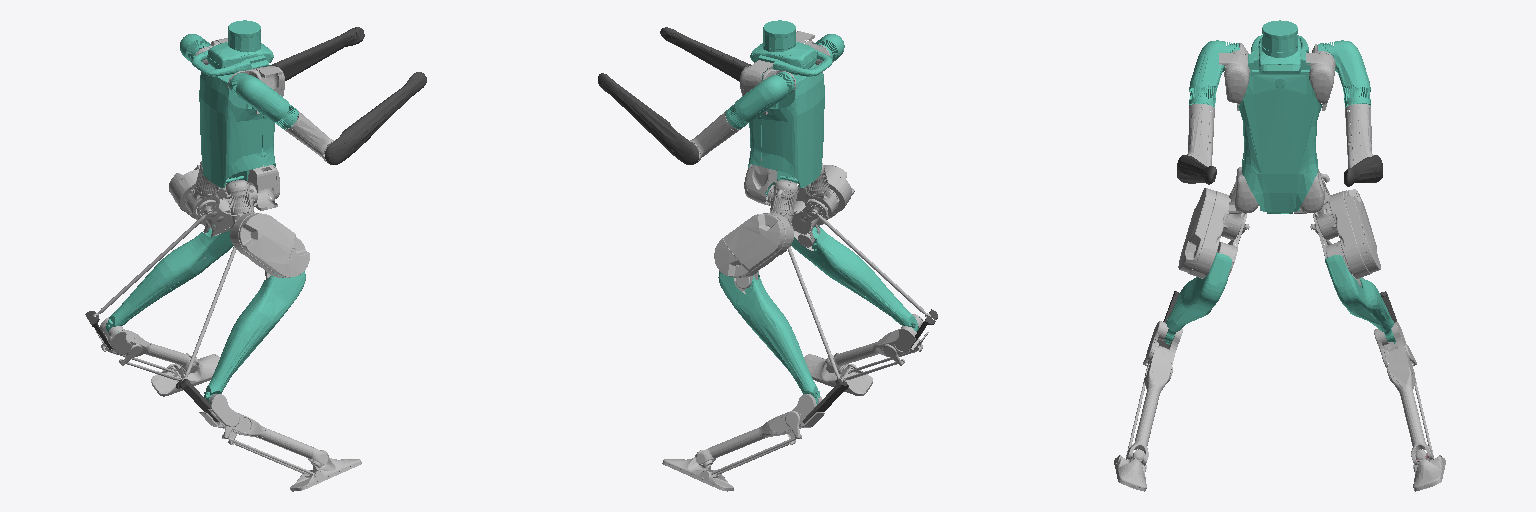
--- Render facts (derived) ---
3 views of the same robot in one strip: view 1: azimuth 30°, elevation 25°; view 2: azimuth 150°, elevation 25°; view 3: azimuth 270°, elevation 25° (orthographic).
Model digit-v3-floatingbase-springfixed with 49 links and 48 joints (33 revolute, 8 continuous, 3 prismatic, 4 fixed), rooted at ground, posed every joint at zero.
Visible links, largest first — view 1: Rz, right_shin, left_shin, right_hip_pitch, right_elbow, right_tarsus, right_shoulder_pitch, left_tarsus, left_elbow, left_hip_pitch, left_toe_roll, right_toe_roll (+5 smaller); view 2: Rz, left_shin, right_shin, left_hip_pitch, left_elbow, left_tarsus, left_shoulder_pitch, right_tarsus, right_elbow, right_hip_pitch, right_toe_roll, left_toe_roll (+6 smaller); view 3: Rz, left_hip_pitch, right_hip_pitch, left_tarsus, right_tarsus, right_shin, left_shin, left_shoulder_pitch, right_shoulder_pitch, left_shoulder_yaw, right_shoulder_yaw, right_toe_roll (+4 smaller).
Link boxes in pixels (bbox=[...]): Rz: bbox=[191, 20, 284, 210]; right_shin: bbox=[204, 271, 305, 403]; left_shin: bbox=[106, 225, 233, 332]; right_hip_pitch: bbox=[232, 213, 309, 277]; right_elbow: bbox=[325, 72, 426, 164]; right_tarsus: bbox=[199, 394, 327, 463]; right_shoulder_pitch: bbox=[229, 73, 298, 128]; left_tarsus: bbox=[96, 317, 197, 372]; left_elbow: bbox=[271, 27, 364, 80]; left_hip_pitch: bbox=[169, 165, 231, 230]; left_toe_roll: bbox=[151, 354, 219, 396]; right_toe_roll: bbox=[290, 450, 361, 491]; Rz: bbox=[740, 20, 832, 205]; left_shin: bbox=[718, 271, 819, 404]; right_shin: bbox=[791, 226, 918, 331]; left_hip_pitch: bbox=[714, 213, 791, 277]; left_elbow: bbox=[598, 73, 698, 164]; left_tarsus: bbox=[696, 394, 824, 463]; left_shoulder_pitch: bbox=[725, 72, 794, 128]; right_tarsus: bbox=[826, 314, 928, 372]; right_elbow: bbox=[660, 27, 751, 81]; right_hip_pitch: bbox=[793, 165, 854, 230]; right_toe_roll: bbox=[804, 354, 872, 395]; left_toe_roll: bbox=[662, 450, 733, 491]; Rz: bbox=[1219, 20, 1335, 213]; left_hip_pitch: bbox=[1313, 189, 1380, 278]; right_hip_pitch: bbox=[1178, 188, 1246, 278]; left_tarsus: bbox=[1374, 322, 1433, 464]; right_tarsus: bbox=[1126, 321, 1182, 464]; right_shin: bbox=[1164, 253, 1231, 344]; left_shin: bbox=[1325, 255, 1395, 343]; left_shoulder_pitch: bbox=[1318, 40, 1370, 107]; right_shoulder_pitch: bbox=[1189, 40, 1239, 107]; left_shoulder_yaw: bbox=[1345, 104, 1373, 167]; right_shoulder_yaw: bbox=[1187, 104, 1214, 166]; right_toe_roll: bbox=[1114, 449, 1146, 491].
Bounding box of the posed robot: 0.9353 × 0.9376 × 1.4 m (x, y, z).
41 mesh visuals loaded from 20 distinct referenced files (20 binary STL).

The robot description file, URDF, robot "digit-v3-floatingbase-springfixed":
<?xml version="1.0" encoding="utf-8"?>
<robot name="digit-v3-floatingbase-springfixed">
  <!-- floating base -->
  <link name = "ground">
    <inertial>
      <origin xyz = "0 0 0" rpy = "0 0 0" />
      <mass value = "0"/>
      <inertia ixx = "0" ixy = "0" ixz = "0" iyy = "0" iyz = "0" izz = "0"/>
    </inertial>
  </link>
  <link name = "Px">
    <inertial>
      <origin xyz = "0 0 0" rpy = "0 0 0" />
      <mass value = "0"/>
      <inertia ixx = "0" ixy = "0" ixz = "0" iyy = "0" iyz = "0" izz = "0"/>
    </inertial>
  </link>
  <link name = "Py">
    <inertial>
      <origin xyz = "0 0 0" rpy = "0 0 0" />
      <mass value = "0"/>
      <inertia ixx = "0" ixy = "0" ixz = "0" iyy = "0" iyz = "0" izz = "0"/>
    </inertial>
  </link>
  <link name = "Pz">
    <inertial>
      <origin xyz = "0 0 0" rpy = "0 0 0" />
      <mass value = "0"/>
      <inertia ixx = "0" ixy = "0" ixz = "0" iyy = "0" iyz = "0" izz = "0"/>
    </inertial>
  </link>
  <link name = "Rx">
    <inertial>
      <origin xyz = "0 0 0" rpy = "0 0 0" />
      <mass value = "0"/>
      <inertia ixx = "0" ixy = "0" ixz = "0" iyy = "0" iyz = "0" izz = "0"/>
    </inertial>
  </link>
  <link name = "Ry">
    <inertial>
      <origin xyz = "0 0 0" rpy = "0 0 0" />
      <mass value = "0"/>
      <inertia ixx = "0" ixy = "0" ixz = "0" iyy = "0" iyz = "0" izz = "0"/>
    </inertial>
  </link>
  <link name = "Rz">
    <inertial>
      <origin rpy="0 0 0" xyz="0.001636612541 0.0002001180789 0.2593064529"/>
      <mass value="15.028392"/>
      <inertia ixx="0.3759052548" ixy="-8.776732849e-05" ixz="0.008498611229" iyy="0.3441935" iyz="6.621611757e-05" izz="0.09873232746"/>
    </inertial>
    <visual>
      <origin rpy="0 0 0" xyz="0 0 0"/>
      <geometry>
        <mesh filename="meshes/torso-v3/torso.stl"/>
      </geometry>
      <material name="scarlet">
        <color rgba="0.427 0.784 0.714 1"/>
      </material>
    </visual>
    <visual>
      <origin rpy="0 -1.5707963267948966192313216916398 0" xyz="-0.001 0.091 0"/>
      <geometry>
        <mesh filename="meshes/leg-v3/hip-roll-housing.stl"/>
      </geometry>
      <material name="light_grey">
        <color rgba="0.75 0.75 0.75 1"/>
      </material>
    </visual>
    <visual>
      <origin rpy="-0 -1.5707963267948966192313216916398 0" xyz="-0.001 0.12 0.4"/>
      <geometry>
        <mesh filename="meshes/arm-v3/link-0.stl"/>
      </geometry>
      <material name="light_grey">
        <color rgba="0.75 0.75 0.75 1"/>
      </material>
    </visual>
    <visual>
      <origin rpy="0 -1.5707963267948966192313216916398 0" xyz="-0.001 -0.091 0"/>
      <geometry>
        <mesh filename="meshes/leg-v3/hip-roll-housing.stl"/>
      </geometry>
      <material name="light_grey">
        <color rgba="0.75 0.75 0.75 1"/>
      </material>
    </visual>
    <visual>
      <origin rpy="0 -1.5707963267948966192313216916398 0" xyz="-0.001 -0.12 0.4"/>
      <geometry>
        <mesh filename="meshes/arm-v3/link-0.stl"/>
      </geometry>
      <material name="light_grey">
        <color rgba="0.75 0.75 0.75 1"/>
      </material>
    </visual>
    <collision>
      <origin rpy="0 0 0" xyz="0 0 0"/>
      <geometry>
        <mesh filename="meshes/torso-v3/torso.stl"/>
      </geometry>
    </collision>
    <collision>
      <origin rpy="0 -1.5707963267948966192313216916398 0" xyz="-0.001 0.091 0"/>
      <geometry>
        <mesh filename="meshes/leg-v3/hip-roll-housing.stl"/>
      </geometry>
    </collision>
    <collision>
      <origin rpy="-0.1745   -1.5707963267948966192313216916398         0" xyz="-0.001 0.12 0.4"/>
      <geometry>
        <mesh filename="meshes/arm-v3/link-0.stl"/>
      </geometry>
    </collision>
    <collision>
      <origin rpy="0 -1.5707963267948966192313216916398 0" xyz="-0.001 -0.091 0"/>
      <geometry>
        <mesh filename="meshes/leg-v3/hip-roll-housing.stl"/>
      </geometry>
    </collision>
    <collision>
      <origin rpy="0.1745   -1.5707963267948966192313216916398         0" xyz="-0.001 -0.12 0.4"/>
      <geometry>
        <mesh filename="meshes/arm-v3/link-0.stl"/>
      </geometry>
    </collision>
  </link>

  <!-- left leg -->
  <link name="left_hip_roll">
    <inertial>
      <origin rpy="0 0 0" xyz="-0.001967 0.000244 0.031435"/>
      <mass value="0.915088"/>
      <inertia ixx="0.001017" ixy="-3e-06" ixz="1.3e-05" iyy="0.001148" iyz="-4e-06" izz="0.000766"/>
    </inertial>
    <visual>
      <origin rpy="0 0 0" xyz="0 0 0"/>
      <geometry>
        <mesh filename="meshes/leg-v3/hip-yaw-housing.stl"/>
      </geometry>
      <material name="light_grey">
        <color rgba="0.75 0.75 0.75 1"/>
      </material>
    </visual>
    <collision>
      <origin rpy="0 0 0" xyz="0 0 0"/>
      <geometry>
        <mesh filename="meshes/leg-v3/hip-yaw-housing.stl"/>
      </geometry>
    </collision>
  </link>
  <link name="left_hip_yaw">
    <inertial>
      <origin rpy="0 0 0" xyz="1e-05 -0.001945 0.042033"/>
      <mass value="0.818753"/>
      <inertia ixx="0.001627" ixy="-1e-06" ixz="2e-06" iyy="0.001929" iyz="5.3e-05" izz="0.00077"/>
    </inertial>
    <visual>
      <origin rpy="0 0 0" xyz="0 0 0"/>
      <geometry>
        <mesh filename="meshes/leg-v3/hip-pitch-housing.stl"/>
      </geometry>
      <material name="light_grey">
        <color rgba="0.75 0.75 0.75 1"/>
      </material>
    </visual>
    <collision>
      <origin rpy="0 0 0" xyz="0 0 0"/>
      <geometry>
        <mesh filename="meshes/leg-v3/hip-pitch-housing.stl"/>
      </geometry>
    </collision>
  </link>
  <link name="left_hip_pitch">
    <inertial>
      <origin rpy="0 0 0" xyz="0.060537 0.000521 -0.038857"/>
      <mass value="6.244279"/>
      <inertia ixx="0.011533" ixy="-0.000171" ixz="0.000148" iyy="0.033345" iyz="0.000178" izz="0.033958"/>
    </inertial>
    <visual>
      <origin rpy="0 0 0" xyz="0 0 0"/>
      <geometry>
        <mesh filename="meshes/leg-v3/hip-pitch.stl"/>
      </geometry>
      <material name="scarlet">
        <color rgba="0.75 0.75 0.75 1"/>
      </material>
    </visual>
    <collision>
      <origin rpy="0 0 0" xyz="0 0 0"/>
      <geometry>
        <mesh filename="meshes/leg-v3/hip-pitch.stl"/>
      </geometry>
    </collision>
  </link>

  <!-- left knee close loop -->
  <link name="left_achilles_rod">
    <inertial>
      <origin rpy="0 0 0" xyz="0 0 0"/>
      <mass value="0."/>
      <inertia ixx="0" ixy="0" ixz="0" iyy="0" iyz="0" izz="0"/>
    </inertial>
    <visual>
      <origin rpy="0 0 0" xyz="0 0 0"/>
      <geometry>
        <mesh filename="meshes/leg-v3/achilles-rod.stl"/>
      </geometry>
      <material name="light_grey">
        <color rgba="0.75 0.75 0.75 1"/>
      </material>
    </visual>
    <collision>
      <origin rpy="0 0 0" xyz="0 0 0"/>
      <geometry>
        <mesh filename="meshes/leg-v3/achilles-rod.stl"/>
      </geometry>
    </collision>
  </link>
  <link name="left_ach2">
    <inertial>
      <origin rpy="0 0 0" xyz="0.2506 0 0"/>
      <mass value="0.178148"/>
      <inertia ixx="3e-06" ixy="0" ixz="0" iyy="0.004501" iyz="0" izz="0.004501"/>
    </inertial>
    <visual>
      <origin rpy="0 0 0" xyz="0 0 0"/>
      <geometry>
        <sphere radius = "0.0" />
      </geometry>
    </visual>
    <collision>
      <origin rpy="0 0 0" xyz="0 0 0"/>
      <geometry>
        <sphere radius = "0.0" />
      </geometry>
    </collision>
  </link>

  <link name="left_knee">
    <inertial>
      <origin rpy="0 0 0" xyz="0.045641 0.042154 0.001657"/>
      <mass value="1.227077"/>
      <inertia ixx="0.002643" ixy="-0.001832" ixz="6.6e-05" iyy="0.005098" iyz="4.5e-05" izz="0.007019"/>
    </inertial>
    <visual>
      <origin rpy="0 0 0" xyz="0 0 0"/>
      <geometry>
        <mesh filename="meshes/leg-v3/knee.stl"/>
      </geometry>
      <material name="light_grey">
        <color rgba="0.75 0.75 0.75 1"/>
      </material>
    </visual>
    <collision>
      <origin rpy="0 0 0" xyz="0 0 0"/>
      <geometry>
        <mesh filename="meshes/leg-v3/knee.stl"/>
      </geometry>
    </collision>
  </link>
  <link name="left_shin">
    <inertial>
      <origin rpy="0 0 0" xyz="0.174265 0.010265 0.00107"/>
      <mass value="0.895793"/>
      <inertia ixx="0.001128" ixy="0.001098" ixz="0.000196" iyy="0.022492" iyz="-3e-06" izz="0.022793"/>
    </inertial>
    <visual>
      <origin rpy="0 0 0" xyz="0 0 0"/>
      <geometry>
        <mesh filename="meshes/leg-v3/shin.stl"/>
      </geometry>
      <material name="scarlet">
        <color rgba="0.427 0.784 0.714 1"/>
      </material>
    </visual>
    <collision>
      <origin rpy="0 0 0" xyz="0 0 0"/>
      <geometry>
        <mesh filename="meshes/leg-v3/shin.stl"/>
      </geometry>
    </collision>
  </link>
  <link name="left_tarsus">
    <inertial>
      <origin rpy="0 0 0" xyz="0.100777 -0.029183 0.000678"/>
      <mass value="1.322865"/>
      <inertia ixx="0.000932" ixy="0.00061" ixz="0.000102" iyy="0.016409" iyz="9e-06" izz="0.016501"/>
    </inertial>
    <visual>
      <origin rpy="0 0 0" xyz="0 0 0"/>
      <geometry>
        <mesh filename="meshes/leg-v3/tarsus.stl"/>
      </geometry>
      <material name="light_grey">
        <color rgba="0.75 0.75 0.75 1"/>
      </material>
    </visual>
    <collision>
      <origin rpy="0 0 0" xyz="0 0 0"/>
      <geometry>
        <mesh filename="meshes/leg-v3/tarsus.stl"/>
      </geometry>
    </collision>
  </link>
  <link name="left_heel_spring">
    <inertial>
      <origin rpy="0 0 0" xyz="0.049086 0.004739 -4.5e-05"/>
      <mass value="0.230018"/>
      <inertia ixx="5.5e-05" ixy="1.5e-05" ixz="1e-06" iyy="0.00074" iyz="0" izz="0.000701"/>
    </inertial>
    <visual>
      <origin rpy="0 0 0" xyz="0 0 0"/>
      <geometry>
        <mesh filename="meshes/leg-v3/heel-spring.stl"/>
      </geometry>
      <material name="grey">
        <color rgba="0.35 0.35 0.35 1"/>
      </material>
    </visual>
    <collision>
      <origin rpy="0 0 0" xyz="0 0 0"/>
      <geometry>
        <mesh filename="meshes/leg-v3/heel-spring.stl"/>
      </geometry>
    </collision>
  </link>

  <!-- left toe close loop-->
  <link name="left_toe_A">
    <inertial>
      <origin rpy="0 0 0" xyz="0.005161 1e-06 -0.002248"/>
      <mass value="0.139557"/>
      <inertia ixx="2.9e-05" ixy="0" ixz="-4e-06" iyy="5.8e-05" iyz="0" izz="7.4e-05"/>
    </inertial>
    <visual>
      <origin rpy="0 0 0" xyz="0 0 0"/>
      <geometry>
        <mesh filename="meshes/leg-v3/toe-output.stl"/>
      </geometry>
      <material name="light_grey">
        <color rgba="0.75 0.75 0.75 1"/>
      </material>
    </visual>
    <collision>
      <origin rpy="0 0 0" xyz="0 0 0"/>
      <geometry>
        <mesh filename="meshes/leg-v3/toe-output.stl"/>
      </geometry>
    </collision>
  </link>
  <link name="left_toe_A_rod">
    <inertial>
      <origin rpy="0 0 0" xyz="0 0 0"/>
      <mass value="0."/>
      <inertia ixx="0" ixy="0" ixz="0" iyy="0" iyz="0" izz="0"/>
    </inertial>
    <visual>
      <origin rpy="0 0 0" xyz="0 0 0"/>
      <geometry>
        <mesh filename="meshes/leg-v3/toe-a-rod.stl"/>
      </geometry>
      <material name="light_grey">
        <color rgba="0.75 0.75 0.75 1"/>
      </material>
    </visual>
    <collision>
      <origin rpy="0 0 0" xyz="0 0 0"/>
      <geometry>
        <mesh filename="meshes/leg-v3/toe-a-rod.stl"/>
      </geometry>
    </collision>
  </link>
  <link name="left_A2">
    <inertial>
      <origin rpy="0 0 0" xyz="0.171071 0 0"/>
      <mass value="0.090983"/>
      <inertia ixx="1e-06" ixy="0" ixz="0" iyy="0.001182" iyz="0" izz="0.001182"/>
    </inertial>
    <visual>
      <origin rpy="0 0 0" xyz="0 0 0"/>
      <geometry>
        <sphere radius = "0.0" />
      </geometry>
    </visual>
    <collision>
      <origin rpy="0 0 0" xyz="0 0 0"/>
      <geometry>
        <sphere radius = "0.0" />
      </geometry>
    </collision>
  </link>
  <link name="left_toe_B">
    <inertial>
      <origin rpy="0 0 0" xyz="0.005161 1e-06 -0.002248"/>
      <mass value="0.139557"/>
      <inertia ixx="2.9e-05" ixy="0" ixz="-4e-06" iyy="5.8e-05" iyz="0" izz="7.4e-05"/>
    </inertial>
    <visual>
      <origin rpy="0 0 0" xyz="0 0 0"/>
      <geometry>
        <mesh filename="meshes/leg-v3/toe-output.stl"/>
      </geometry>
      <material name="light_grey">
        <color rgba="0.75 0.75 0.75 1"/>
      </material>
    </visual>
    <collision>
      <origin rpy="0 0 0" xyz="0 0 0"/>
      <geometry>
        <mesh filename="meshes/leg-v3/toe-output.stl"/>
      </geometry>
    </collision>
  </link>
  <link name="left_toe_B_rod">
    <inertial>
      <origin rpy="0 0 0" xyz="0 0 0"/>
      <mass value="0."/>
      <inertia ixx="0" ixy="0" ixz="0" iyy="0" iyz="0" izz="0"/>
    </inertial>
    <visual>
      <origin rpy="0 0 0" xyz="0 0 0"/>
      <geometry>
        <mesh filename="meshes/leg-v3/toe-b-rod.stl"/>
      </geometry>
      <material name="light_grey">
        <color rgba="0.75 0.75 0.75 1"/>
      </material>
    </visual>
    <collision>
      <origin rpy="0 0 0" xyz="0 0 0"/>
      <geometry>
        <mesh filename="meshes/leg-v3/toe-b-rod.stl"/>
      </geometry>
    </collision>
  </link>
  <link name="left_B2">
    <inertial>
      <origin rpy="0 0 0" xyz="0.142991 0 0"/>
      <mass value="0.079507"/>
      <inertia ixx="1e-06" ixy="0" ixz="0" iyy="0.000768" iyz="0" izz="0.000768"/>
    </inertial>
    <visual>
      <origin rpy="0 0 0" xyz="0 0 0"/>
      <geometry>
        <sphere radius = "0.0" />
      </geometry>
    </visual>
    <collision>
      <origin rpy="0 0 0" xyz="0 0 0"/>
      <geometry>
        <sphere radius = "0.0" />
      </geometry>
    </collision>
  </link>

  <link name="left_toe_pitch">
    <inertial>
      <origin rpy="0 0 0" xyz="-0.000141 2e-06 3e-06"/>
      <mass value="0.043881"/>
      <inertia ixx="5e-06" ixy="0" ixz="0" iyy="8e-06" iyz="0" izz="4e-06"/>
    </inertial>
    <visual>
      <origin rpy="0 0 0" xyz="0 0 0"/>
      <geometry>
        <mesh filename="meshes/leg-v3/toe-pitch.stl"/>
      </geometry>
    </visual>
    <collision>
      <origin rpy="0 0 0" xyz="0 0 0"/>
      <geometry>
        <mesh filename="meshes/leg-v3/toe-pitch.stl"/>
      </geometry>
      <material name="light_grey">
        <color rgba="0.75 0.75 0.75 1"/>
      </material>
    </collision>
  </link>
  <link name="left_toe_roll">
    <inertial>
      <origin rpy="0 0 0" xyz="9e-06 -0.028084 -0.023204"/>
      <mass value="0.531283"/>
      <inertia ixx="0.00187" ixy="0" ixz="0" iyy="0.001616" iyz="0.000566" izz="0.000843"/>
    </inertial>
    <visual>
      <origin rpy="0 0 0" xyz="0 0 0"/>
      <geometry>
        <mesh filename="meshes/leg-v3/toe-roll.stl"/>
      </geometry>
      <material name="light_grey">
        <color rgba="0.75 0.75 0.75 1"/>
      </material>
    </visual>
    <collision>
      <origin rpy="0 0 0" xyz="0 0 0"/>
      <geometry>
        <mesh filename="meshes/leg-v3/toe-roll.stl"/>
      </geometry>
    </collision>
  </link>

  <!-- left arm -->
  <link name="left_shoulder_roll">
    <inertial>
      <origin rpy="0 0 0" xyz="-0.000819 -0.003158 0.023405"/>
      <mass value="0.535396"/>
      <inertia ixx="0.000704" ixy="1.4e-05" ixz="1.2e-05" iyy="0.00075" iyz="3.5e-05" izz="0.000298"/>
    </inertial>
    <visual>
      <origin rpy="0         0   -0.2793" xyz="0 0 0"/>
      <geometry>
        <mesh filename="meshes/arm-v3/link-1.stl"/>
      </geometry>
      <material name="light_grey">
        <color rgba="0.75 0.75 0.75 1"/>
      </material>
    </visual>
    <collision>
      <origin rpy="0         0   -0.2793" xyz="0 0 0"/>
      <geometry>
        <mesh filename="meshes/arm-v3/link-1.stl"/>
      </geometry>
    </collision>
  </link>
  <link name="left_shoulder_pitch">
    <inertial>
      <origin rpy="0 0 0" xyz="-4.2e-05 -0.061882 -0.073788"/>
      <mass value="1.440357"/>
      <inertia ixx="0.006761" ixy="-6e-06" ixz="-3e-06" iyy="0.002087" iyz="-0.002046" izz="0.005778"/>
    </inertial>
    <visual>
      <origin rpy="0 0 0" xyz="0 0 0"/>
      <geometry>
        <mesh filename="meshes/arm-v3/link-2.stl"/>
      </geometry>
      <material name="scarlet">
        <color rgba="0.427 0.784 0.714 1"/>
      </material>
    </visual>
    <collision>
      <origin rpy="0 0 0" xyz="0 0 0"/>
      <geometry>
        <mesh filename="meshes/arm-v3/link-2.stl"/>
      </geometry>
    </collision>
  </link>
  <link name="left_shoulder_yaw">
    <inertial>
      <origin rpy="0 0 0" xyz="-3e-05 0.001937 0.11407"/>
      <mass value="1.065387"/>
      <inertia ixx="0.006967" ixy="-1e-06" ixz="-1e-06" iyy="0.007003" iyz="-1.5e-05" izz="0.000673"/>
    </inertial>
    <visual>
      <origin rpy="0 0 0" xyz="0 0 0"/>
      <geometry>
        <mesh filename="meshes/arm-v3/link-3.stl"/>
      </geometry>
      <material name="light_grey">
        <color rgba="0.75 0.75 0.75 1"/>
      </material>
    </visual>
    <collision>
      <origin rpy="0 0 0" xyz="0 0 0"/>
      <geometry>
        <mesh filename="meshes/arm-v3/link-3.stl"/>
      </geometry>
    </collision>
  </link>
  <link name="left_elbow">
    <inertial>
      <origin rpy="0 0 0" xyz="0.107996 0.000521 -0.017765"/>
      <mass value="0.550582"/>
      <inertia ixx="0.000476" ixy="-2.9e-05" ixz="0.001403" iyy="0.009564" iyz="9e-06" izz="0.009437"/>
    </inertial>
    <visual>
      <origin rpy="0 0 0" xyz="0 0 0"/>
      <geometry>
        <mesh filename="meshes/arm-v3/link-4.stl"/>
      </geometry>
      <material name="grey">
        <color rgba="0.35 0.35 0.35 1"/>
      </material>
    </visual>
    <collision>
      <origin rpy="0 0 0" xyz="0 0 0"/>
      <geometry>
        <mesh filename="meshes/arm-v3/link-4.stl"/>
      </geometry>
    </collision>
  </link>
  
  <!-- right leg -->
  <link name="right_hip_roll">
    <inertial>
      <origin rpy="0 0 0" xyz="-0.001967 -0.000244 0.031435"/>
      <mass value="0.915088"/>
      <inertia ixx="0.001017" ixy="3e-06" ixz="1.3e-05" iyy="0.001148" iyz="4e-06" izz="0.000766"/>
    </inertial>
    <visual>
      <origin rpy="0 0 0" xyz="0 0 0"/>
      <geometry>
        <mesh filename="meshes/leg-v3/hip-yaw-housing.stl" scale="1 1 1"/>
      </geometry>
      <material name="light_grey">
        <color rgba="0.75 0.75 0.75 1"/>
      </material>
    </visual>
    <collision>
      <origin rpy="0 0 0" xyz="0 0 0"/>
      <geometry>
        <mesh filename="meshes/leg-v3/hip-yaw-housing.stl" scale="1 1 1"/>
      </geometry>
    </collision>
  </link>
  <link name="right_hip_yaw">
    <inertial>
      <origin rpy="0 0 0" xyz="1e-05 0.001945 0.042033"/>
      <mass value="0.818753"/>
      <inertia ixx="0.001627" ixy="1e-06" ixz="2e-06" iyy="0.001929" iyz="-5.3e-05" izz="0.00077"/>
    </inertial>
    <visual>
      <origin rpy="0 0 3.1415926535897932384626433832795" xyz="0 0 0"/>
      <geometry>
        <mesh filename="meshes/leg-v3/hip-pitch-housing.stl" scale="1 1 1"/>
      </geometry>
      <material name="light_grey">
        <color rgba="0.75 0.75 0.75 1"/>
      </material>
    </visual>
    <collision>
      <origin rpy="0 0 0" xyz="0 0 0"/>
      <geometry>
        <mesh filename="meshes/leg-v3/hip-pitch-housing.stl" scale="1 1 1"/>
      </geometry>
    </collision>
  </link>
  <link name="right_hip_pitch">
    <inertial>
      <origin rpy="0 0 0" xyz="0.060537 -0.000521 -0.038857"/>
      <mass value="6.244279"/>
      <inertia ixx="0.011533" ixy="0.000171" ixz="0.000148" iyy="0.033345" iyz="-0.000178" izz="0.033958"/>
    </inertial>
    <visual>
      <origin rpy="0 0 0" xyz="0 0 0"/>
      <geometry>
        <mesh filename="meshes/leg-v3/hip-pitch.stl" scale="1 1 1"/>
      </geometry>
      <material name="scarlet">
        <color rgba="0.75 0.75 0.75 1"/>
      </material>
    </visual>
    <collision>
      <origin rpy="0 0 0" xyz="0 0 0"/>
      <geometry>
        <mesh filename="meshes/leg-v3/hip-pitch.stl" scale="1 1 1"/>
      </geometry>
    </collision>
  </link>

  <!-- right knee close loop -->
  <link name="right_achilles_rod">
    <inertial>
      <origin rpy="0 0 0" xyz="0 0 0"/>
      <mass value="0."/>
      <inertia ixx="0" ixy="0" ixz="0" iyy="0" iyz="0" izz="0"/>
    </inertial>
    <visual>
      <origin rpy="0 0 0" xyz="0 0 0"/>
      <geometry>
        <mesh filename="meshes/leg-v3/achilles-rod.stl" scale="1 1 1"/>
      </geometry>
      <material name="light_grey">
        <color rgba="0.75 0.75 0.75 1"/>
      </material>
    </visual>
    <collision>
      <origin rpy="0 0 0" xyz="0 0 0"/>
      <geometry>
        <mesh filename="meshes/leg-v3/achilles-rod.stl" scale="1 1 1"/>
      </geometry>
    </collision>
  </link>
  <link name="right_ach2">
    <inertial>
      <origin rpy="0 0 0" xyz="0.2506 0 0"/>
      <mass value="0.178148"/>
      <inertia ixx="3e-06" ixy="0" ixz="0" iyy="0.004501" iyz="0" izz="0.004501"/>
    </inertial>
    <visual>
      <origin rpy="0 0 0" xyz="0 0 0"/>
      <geometry>
        <sphere radius = "0.0" />
      </geometry>
    </visual>
    <collision>
      <origin rpy="0 0 0" xyz="0 0 0"/>
      <geometry>
        <sphere radius = "0.0" />
      </geometry>
    </collision>
  </link>

  <link name="right_knee">
    <inertial>
      <origin rpy="0 0 0" xyz="0.045641 -0.042154 0.001657"/>
      <mass value="1.227077"/>
      <inertia ixx="0.002643" ixy="0.001832" ixz="6.6e-05" iyy="0.005098" iyz="-4.5e-05" izz="0.007019"/>
    </inertial>
    <visual>
      <origin rpy="3.1415926535897932384626433832795 0 0" xyz="0 0 0"/>
      <geometry>
        <mesh filename="meshes/leg-v3/knee.stl" scale="1 1 1"/>
      </geometry>
      <material name="light_grey">
        <color rgba="0.75 0.75 0.75 1"/>
      </material>
    </visual>
    <collision>
      <origin rpy="0 0 0" xyz="0 0 0"/>
      <geometry>
        <mesh filename="meshes/leg-v3/knee.stl" scale="1 1 1"/>
      </geometry>
    </collision>
  </link>
  <link name="right_shin">
    <inertial>
      <origin rpy="0 0 0" xyz="0.174265 -0.010265 0.00107"/>
      <mass value="0.895793"/>
      <inertia ixx="0.001128" ixy="-0.001098" ixz="0.000196" iyy="0.022492" iyz="3e-06" izz="0.022793"/>
    </inertial>
    <visual>
      <origin rpy="3.1415926535897932384626433832795 0 0" xyz="0 0 0"/>
      <geometry>
        <mesh filename="meshes/leg-v3/shin.stl" scale="1 1 1"/>
      </geometry>
      <material name="scarlet">
        <color rgba="0.427 0.784 0.714 1"/>
      </material>
    </visual>
    <collision>
      <origin rpy="0 0 0" xyz="0 0 0"/>
      <geometry>
        <mesh filename="meshes/leg-v3/shin.stl" scale="1 1 1"/>
      </geometry>
    </collision>
  </link>
  <link name="right_tarsus">
    <inertial>
      <origin rpy="0 0 0" xyz="0.100777 0.029183 0.000678"/>
      <mass value="1.322865"/>
      <inertia ixx="0.000932" ixy="-0.00061" ixz="0.000102" iyy="0.016409" iyz="-9e-06" izz="0.016501"/>
    </inertial>
    <visual>
      <origin rpy="3.1415926535897932384626433832795 0 0" xyz="0 0 0"/>
      <geometry>
        <mesh filename="meshes/leg-v3/tarsus.stl" scale="1 1 1"/>
      </geometry>
      <material name="light_grey">
        <color rgba="0.75 0.75 0.75 1"/>
      </material>
    </visual>
    <collision>
      <origin rpy="0 0 0" xyz="0 0 0"/>
      <geometry>
        <mesh filename="meshes/leg-v3/tarsus.stl" scale="1 1 1"/>
      </geometry>
    </collision>
  </link>
  <link name="right_heel_spring">
    <inertial>
      <origin rpy="0 0 0" xyz="0.049086 -0.004739 -4.5e-05"/>
      <mass value="0.230018"/>
      <inertia ixx="5.5e-05" ixy="-1.5e-05" ixz="1e-06" iyy="0.00074" iyz="0" izz="0.000701"/>
    </inertial>
    <visual>
      <origin rpy="0 0 0" xyz="0 0 0"/>
      <geometry>
        <mesh filename="meshes/leg-v3/heel-spring.stl" scale="1 1 1"/>
      </geometry>
      <material name="grey">
        <color rgba="0.35 0.35 0.35 1"/>
      </material>
    </visual>
    <collision>
      <origin rpy="0 0 0" xyz="0 0 0"/>
      <geometry>
        <mesh filename="meshes/leg-v3/heel-spring.stl" scale="1 1 1"/>
      </geometry>
    </collision>
  </link>

  <!-- right toe close loop -->
  <link name="right_toe_A">
    <inertial>
      <origin rpy="0 0 0" xyz="0.005161 -1e-06 -0.002248"/>
      <mass value="0.139557"/>
      <inertia ixx="2.9e-05" ixy="0" ixz="-4e-06" iyy="5.8e-05" iyz="0" izz="7.4e-05"/>
    </inertial>
    <visual>
      <origin rpy="0 0 0" xyz="0 0 0"/>
      <geometry>
        <mesh filename="meshes/leg-v3/toe-output.stl" scale="1 1 1"/>
      </geometry>
      <material name="light_grey">
        <color rgba="0.75 0.75 0.75 1"/>
      </material>
    </visual>
    <collision>
      <origin rpy="0 0 0" xyz="0 0 0"/>
      <geometry>
        <mesh filename="meshes/leg-v3/toe-output.stl" scale="1 1 1"/>
      </geometry>
    </collision>
  </link>
  <link name="right_toe_A_rod">
    <inertial>
      <origin rpy="0 0 0" xyz="0 0 0"/>
      <mass value="0."/>
      <inertia ixx="0" ixy="0" ixz="0" iyy="0" iyz="0" izz="0"/>
    </inertial>
    <visual>
      <origin rpy="0 0 0" xyz="0 0 0"/>
      <geometry>
        <mesh filename="meshes/leg-v3/toe-a-rod.stl" scale="1 1 1"/>
      </geometry>
      <material name="light_grey">
        <color rgba="0.75 0.75 0.75 1"/>
      </material>
    </visual>
    <collision>
      <origin rpy="0 0 0" xyz="0 0 0"/>
      <geometry>
        <mesh filename="meshes/leg-v3/toe-a-rod.stl" scale="1 1 1"/>
      </geometry>
    </collision>
  </link>
  <link name="right_A2">
    <inertial>
      <origin rpy="0 0 0" xyz="0.171071 0 0"/>
      <mass value="0.090983"/>
      <inertia ixx="1e-06" ixy="0" ixz="0" iyy="0.001182" iyz="0" izz="0.001182"/>
    </inertial>
    <visual>
      <origin rpy="0 0 0" xyz="0 0 0"/>
      <geometry>
        <sphere radius = "0.0" />
      </geometry>
    </visual>
    <collision>
      <origin rpy="0 0 0" xyz="0 0 0"/>
      <geometry>
        <sphere radius = "0.0" />
      </geometry>
    </collision>
  </link>
  <link name="right_toe_B">
    <inertial>
      <origin rpy="0 0 0" xyz="0.005161 -1e-06 -0.002248"/>
      <mass value="0.139557"/>
      <inertia ixx="2.9e-05" ixy="0" ixz="-4e-06" iyy="5.8e-05" iyz="0" izz="7.4e-05"/>
    </inertial>
    <visual>
      <origin rpy="0 0 0" xyz="0 0 0"/>
      <geometry>
        <mesh filename="meshes/leg-v3/toe-output.stl" scale="1 1 1"/>
      </geometry>
      <material name="light_grey">
        <color rgba="0.75 0.75 0.75 1"/>
      </material>
    </visual>
    <collision>
      <origin rpy="0 0 0" xyz="0 0 0"/>
      <geometry>
        <mesh filename="meshes/leg-v3/toe-output.stl" scale="1 1 1"/>
      </geometry>
    </collision>
  </link>
  <link name="right_toe_B_rod">
    <inertial>
      <origin rpy="0 0 0" xyz="0 0 0"/>
      <mass value="0."/>
      <inertia ixx="0" ixy="0" ixz="0" iyy="0" iyz="0" izz="0"/>
    </inertial>
    <visual>
      <origin rpy="0 0 0" xyz="0 0 0"/>
      <geometry>
        <mesh filename="meshes/leg-v3/toe-b-rod.stl" scale="1 1 1"/>
      </geometry>
      <material name="light_grey">
        <color rgba="0.75 0.75 0.75 1"/>
      </material>
    </visual>
    <collision>
      <origin rpy="0 0 0" xyz="0 0 0"/>
      <geometry>
        <mesh filename="meshes/leg-v3/toe-b-rod.stl" scale="1 1 1"/>
      </geometry>
    </collision>
  </link>
  <link name="right_B2">
    <inertial>
      <origin rpy="0 0 0" xyz="0.142991 0 0"/>
      <mass value="0.079507"/>
      <inertia ixx="1e-06" ixy="0" ixz="0" iyy="0.000768" iyz="0" izz="0.000768"/>
    </inertial>
    <visual>
      <origin rpy="0 0 0" xyz="0 0 0"/>
      <geometry>
        <sphere radius = "0.0" />
      </geometry>
    </visual>
    <collision>
      <origin rpy="0 0 0" xyz="0 0 0"/>
      <geometry>
        <sphere radius = "0.0" />
      </geometry>
    </collision>
  </link>

  <link name="right_toe_pitch">
    <inertial>
      <origin rpy="0 0 0" xyz="-0.000141 -2e-06 3e-06"/>
      <mass value="0.043881"/>
      <inertia ixx="5e-06" ixy="0" ixz="0" iyy="8e-06" iyz="0" izz="4e-06"/>
    </inertial>
    <visual>
      <origin rpy="0 0 0" xyz="0 0 0"/>
      <geometry>
        <mesh filename="meshes/leg-v3/toe-pitch.stl" scale="1 1 1"/>
      </geometry>
      <material name="light_grey">
        <color rgba="0.75 0.75 0.75 1"/>
      </material>
    </visual>
    <collision>
      <origin rpy="0 0 0" xyz="0 0 0"/>
      <geometry>
        <mesh filename="meshes/leg-v3/toe-pitch.stl" scale="1 1 1"/>
      </geometry>
    </collision>
  </link>
  <link name="right_toe_roll">
    <inertial>
      <origin rpy="0 0 0" xyz="9e-06 0.028084 -0.023204"/>
      <mass value="0.531283"/>
      <inertia ixx="0.00187" ixy="0" ixz="0" iyy="0.001616" iyz="-0.000566" izz="0.000843"/>
    </inertial>
    <visual>
      <origin rpy="0 0 3.1415926535897932384626433832795" xyz="0 0 0"/>
      <geometry>
        <mesh filename="meshes/leg-v3/toe-roll.stl" scale="1 1 1"/>
      </geometry>
      <material name="light_grey">
        <color rgba="0.75 0.75 0.75 1"/>
      </material>
    </visual>
    <collision>
      <origin rpy="0 0 0" xyz="0 0 0"/>
      <geometry>
        <mesh filename="meshes/leg-v3/toe-roll.stl" scale="1 1 1"/>
      </geometry>
    </collision>
  </link>

  <!-- right arm -->
  <link name="right_shoulder_roll">
    <inertial>
      <origin rpy="0 0 0" xyz="-0.000819 0.003158 0.023405"/>
      <mass value="0.535396"/>
      <inertia ixx="0.000704" ixy="-1.4e-05" ixz="1.2e-05" iyy="0.00075" iyz="-3.5e-05" izz="0.000298"/>
    </inertial>
    <visual>
      <origin rpy="0         0    3.1415926535897932384626433832795" xyz="0 0 0"/>
      <geometry>
        <mesh filename="meshes/arm-v3/link-1.stl" scale="1 1 1"/>
      </geometry>
      <material name="light_grey">
        <color rgba="0.75 0.75 0.75 1"/>
      </material>
    </visual>
    <collision>
      <origin rpy="0         0    0.2793" xyz="0 0 0"/>
      <geometry>
        <mesh filename="meshes/arm-v3/link-1.stl" scale="1 1 1"/>
      </geometry>
    </collision>
  </link>
  <link name="right_shoulder_pitch">
    <inertial>
      <origin rpy="0 0 0" xyz="-4.2e-05 0.061882 -0.073788"/>
      <mass value="1.440357"/>
      <inertia ixx="0.006761" ixy="6e-06" ixz="-3e-06" iyy="0.002087" iyz="0.002046" izz="0.005778"/>
    </inertial>
    <visual>
      <origin rpy="0 0 3.1415926535897932384626433832795" xyz="0 0 0"/>
      <geometry>
        <mesh filename="meshes/arm-v3/link-2.stl" scale="1 1 1"/>
      </geometry>
      <material name="scarlet">
        <color rgba="0.427 0.784 0.714 1"/>
      </material>
    </visual>
    <collision>
      <origin rpy="0 0 0" xyz="0 0 0"/>
      <geometry>
        <mesh filename="meshes/arm-v3/link-2.stl" scale="1 1 1"/>
      </geometry>
    </collision>
  </link>
  <link name="right_shoulder_yaw">
    <inertial>
      <origin rpy="0 0 0" xyz="-3e-05 -0.001937 0.11407"/>
      <mass value="1.065387"/>
      <inertia ixx="0.006967" ixy="1e-06" ixz="-1e-06" iyy="0.007003" iyz="1.5e-05" izz="0.000673"/>
    </inertial>
    <visual>
      <origin rpy="0 0 3.1415926535897932384626433832795" xyz="0 0 0"/>
      <geometry>
        <mesh filename="meshes/arm-v3/link-3.stl" scale="1 1 1"/>
      </geometry>
      <material name="light_grey">
        <color rgba="0.75 0.75 0.75 1"/>
      </material>
    </visual>
    <collision>
      <origin rpy="0 0 0" xyz="0 0 0"/>
      <geometry>
        <mesh filename="meshes/arm-v3/link-3.stl" scale="1 1 1"/>
      </geometry>
    </collision>
  </link>
  <link name="right_elbow">
    <inertial>
      <origin rpy="0 0 0" xyz="0.107996 -0.000521 -0.017765"/>
      <mass value="0.550582"/>
      <inertia ixx="0.000476" ixy="2.9e-05" ixz="0.001403" iyy="0.009564" iyz="-9e-06" izz="0.009437"/>
    </inertial>
    <visual>
      <origin rpy="0 0 0" xyz="0 0 0"/>
      <geometry>
        <mesh filename="meshes/arm-v3/link-4.stl" scale="1 1 1"/>
      </geometry>
      <material name="grey">
        <color rgba="0.35 0.35 0.35 1"/>
      </material>
    </visual>
    <collision>
      <origin rpy="0 0 0" xyz="0 0 0"/>
      <geometry>
        <mesh filename="meshes/arm-v3/link-4.stl" scale="1 1 1"/>
      </geometry>
    </collision>
  </link>

  <!-- floating base -->
  <joint name = "Px" type = "prismatic">
    <parent link = "ground" />
    <child link = "Px" />
    <origin xyz = "0 0 0" />
    <axis xyz = "1 0 0" />
    <limit effort="1000" lower="-2" upper="2" velocity="1000"/>
  </joint>
  <joint name = "Py" type = "prismatic">
    <parent link = "Px" />
    <child link = "Py" />
    <origin xyz = "0 0 0" />
    <axis xyz = "0 1 0" />
    <limit effort="1000" lower="-2" upper="2" velocity="1000"/>
  </joint>
  <joint name = "Pz" type = "prismatic">
    <parent link = "Py" />
    <child link = "Pz" />
    <origin xyz = "0 0 0" />
    <axis xyz = "0 0 1" />
    <limit effort="1000" lower="-2" upper="2" velocity="1000"/>
  </joint>
  <joint name = "Rx" type = "revolute">
    <parent link = "Pz" />
    <child link = "Rx" />
    <origin xyz = "0 0 0" />
    <axis xyz = "1 0 0" />
    <limit effort="1000" lower="-1000" upper="1000" velocity="1000"/>
  </joint>
  <joint name = "Ry" type = "revolute">
    <parent link = "Rx" />
    <child link = "Ry" />
    <origin xyz = "0 0 0" />
    <axis xyz = "0 1 0" />
    <limit effort="1000" lower="-1000" upper="1000" velocity="1000"/>
  </joint>    
  <joint name = "Rz" type = "revolute">
    <parent link = "Ry" />
    <child link = "Rz" />
    <origin xyz = "0 0 0" />
    <axis xyz = "0 0 1" />
    <limit effort="1000" lower="-1000" upper="1000" velocity="1000"/>
  </joint> 

  <!-- left leg -->
  <joint name="left_hip_roll" type="revolute">
    <origin rpy="1.5707963267948966192313216916398 -1.1955515003397312323585310878116 -1.5707963267948966192313216916398" xyz="-0.001 0.091 0"/> 
    <axis xyz="0 0 1"/>
    <parent link="Rz"/>
    <child link="left_hip_roll"/>
    <dynamics damping="1.0" friction="1.0"/>
    <limit effort="1.4" lower="-1.0472" upper="1.0472" velocity="12.15"/>
  </joint>
  <joint name="left_hip_yaw" type="revolute">
    <origin rpy="0   -1.5707963267948966192313216916398         0" xyz="-0.0505 0 0.044"/>
    <axis xyz="0 0 1"/>
    <parent link="left_hip_roll"/>
    <child link="left_hip_yaw"/>
    <dynamics damping="1.0" friction="1.0"/>
    <limit effort="1.4" lower="-0.698132" upper="0.698132" velocity="12.15"/>
  </joint>
  <joint name="left_hip_pitch" type="revolute">
    <origin rpy="-1.5707963267948966192313216916398 -0.78539816339739465522740147207514 3.1415926535897932384626433832795" xyz="0 0.004 0.068"/>
    <axis xyz="0 0 -1"/>
    <parent link="left_hip_yaw"/>
    <child link="left_hip_pitch"/>
    <dynamics damping="1.0" friction="0.5"/>
    <limit effort="12.5" lower="-1.0472" upper="1.5707963267948966192313216916398" velocity="8.5"/>
  </joint>

  <!-- left knee close loop -->
  <joint name="left_achilles_rod" type="revolute">
    <origin rpy="0.0087528908613780896652567520277444 0.07085157762907765000015558598534 -1.4355410054288866295024718056084" xyz="0 0 0.046"/>
    <axis xyz="0 0 1"/>
    <parent link="left_hip_pitch"/>
    <child link="left_achilles_rod"/>
    <dynamics damping="0.01" friction="0.0"/>
    <limit effort="12.5" lower="-1.7453" upper="1.7453" velocity="8.5085"/>
  </joint>
  <joint name="left_ach2" type="revolute">
    <origin rpy="0 0 0" xyz="0 0 0"/>
    <axis xyz="0 1 0"/>
    <parent link="left_achilles_rod"/>
    <child link="left_ach2"/>
    <dynamics damping="0.01" friction="0.0"/>
    <limit effort="0.9" lower="-1.7453" upper="1.7453" velocity="11.5"/>
  </joint>

  <joint name="left_knee" type="revolute">
    <origin rpy="0         0   -1.5707963267948966192313216916398" xyz="0.12 0 0.0045"/>
    <axis xyz="0 0 1"/>
    <parent link="left_hip_pitch"/>
    <child link="left_knee"/>
    <dynamics damping="1.0" friction="0.5"/>
    <limit effort="12.5" lower="-1.3963" upper="1.0193" velocity="8.5085"/>
  </joint>
  <joint name="left_shin" type="fixed">
    <origin rpy="0 0 0" xyz="0.060677 0.047406 0"/>
    <axis xyz="0 0 1"/>
    <parent link="left_knee"/>
    <child link="left_shin"/>
    <dynamics damping="0.0" friction="0.0"/>
    <limit effort="0" lower="-0.35" upper="0.35" velocity="10"/>
  </joint>
  <joint name="left_tarsus" type="revolute">
    <origin rpy="0         0    1.7976883650999471164766418951331" xyz="0.434759 0.02 0"/>
    <axis xyz="0 0 1"/>
    <parent link="left_shin"/>
    <child link="left_tarsus"/>
    <dynamics damping="0.0" friction="0.0"/>
    <limit effort="0" lower="-0.8779" upper="1.2497" velocity="20"/>
  </joint>
  <joint name="left_heel_spring" type="fixed">
    <origin rpy="-0.068907263191147760661436905138544 -0.03703539652360886280657581437481 2.7207176029176958209632175567094" xyz="-0.01766 -0.029456 0.00104"/>
    <axis xyz="0 0 1"/>
    <parent link="left_tarsus"/>
    <child link="left_heel_spring"/>
    <dynamics damping="0.0" friction="0.0"/>
    <limit effort="12" lower="-0.1047" upper="0.1047" velocity="11.5"/>
  </joint>

  <!-- left toe close loop -->
  <joint name="left_toe_A" type="revolute">
    <origin rpy="3.1415926535897932384626433832795 0 -1.5526449025733231046331184188602" xyz="0.059 -0.034 -0.0276"/>
    <axis xyz="0 0 1"/>
    <parent link="left_tarsus"/>
    <child link="left_toe_A"/>
    <dynamics damping="1.0" friction="1.0"/>
    <limit effort="0.9" lower="-0.8077" upper="0.7851" velocity="11.5"/>
  </joint>
  <joint name="left_toe_A_rod" type="revolute">
    <origin rpy="-0.037175987474526640819139089444434 0.0069420091856212517295032782271846 -1.5437619437662688515189302052022" xyz="0.057 0 -0.008"/>
    <axis xyz="0 0 1"/>
    <parent link="left_toe_A"/>
    <child link="left_toe_A_rod"/>
    <dynamics damping="0.01" friction="0.0"/>
    <limit effort="0.9" lower="-1.7453" upper="1.7453" velocity="11.5"/>
  </joint>
  <joint name="left_A2" type="revolute">
    <origin rpy="0 0 0" xyz="0 0 0"/>
    <axis xyz="0 1 0"/>
    <parent link="left_toe_A_rod"/>
    <child link="left_A2"/>
    <dynamics damping="0.01" friction="0.0"/>
    <limit effort="0.9" lower="-1.7453" upper="1.7453" velocity="11.5"/>
  </joint>
  <joint name="left_toe_B" type="revolute">
    <origin rpy="0         0   -1.5526446425200970402613620535703" xyz="0.111 -0.034 0.0276"/>
    <axis xyz="0 0 1"/>
    <parent link="left_tarsus"/>
    <child link="left_toe_B"/>
    <dynamics damping="1.0" friction="1.0"/>
    <limit effort="0.9" lower="-0.8010" upper="0.7950" velocity="11.5"/>
  </joint>
  <joint name="left_toe_B_rod" type="revolute">
    <origin rpy="-0.053844685552438438513878082858355 0.0022826832958013874852465363574083 1.5418663490001245364169335516635" xyz="0.057 0 -0.008"/>
    <axis xyz="0 0 1"/>
    <parent link="left_toe_B"/>
    <child link="left_toe_B_rod"/>
    <dynamics damping="0.01" friction="0.0"/>
    <limit effort="0.9" lower="-1.7453" upper="1.7453" velocity="11.5"/>
  </joint>
  <joint name="left_B2" type="revolute">
    <origin rpy="0 0 0" xyz="0 0 0"/>
    <axis xyz="0 1 0"/>
    <parent link="left_toe_B_rod"/>
    <child link="left_B2"/>
    <dynamics damping="0.01" friction="0.0"/>
    <limit effort="0.9" lower="-1.7453" upper="1.7453" velocity="11.5"/>
  </joint>

  <joint name="left_toe_pitch" type="revolute">
    <origin rpy="0         0    1.2522744638393012994725950193242" xyz="0.408 -0.04 0"/>
    <axis xyz="0 0 1"/>
    <parent link="left_tarsus"/>
    <child link="left_toe_pitch"/>
    <dynamics damping="0.0" friction="0.0"/>
    <limit effort="0.9" lower="-0.7679" upper="0.5934" velocity="11.5"/>
  </joint>
  <joint name="left_toe_roll" type="revolute">
    <origin rpy="0    1.5707963267948966192313216916398         0" xyz="0 0 0"/>
    <axis xyz="0 0 1"/>
    <parent link="left_toe_pitch"/>
    <child link="left_toe_roll"/>
    <dynamics damping="0.0" friction="0.0"/>
    <limit effort="0.9" lower="-0.6458" upper="0.5760" velocity="11.5"/>
  </joint>

  <!-- left arm -->
  <joint name="left_shoulder_roll" type="continuous">
    <origin rpy="-1.57079632679489661923 -1.3962633 1.57079632679489661923" xyz="-0.001 0.12 0.4"/>
    <axis xyz="0 0 1"/>
    <parent link="Rz"/>
    <child link="left_shoulder_roll"/>
    <limit effort="1.4" lower="-1.309" upper="1.309" velocity="12.5"/>
  </joint>
  <joint name="left_shoulder_pitch" type="continuous">
    <origin rpy="1.57079632679489661923 0.785398163397 -0.2792527" xyz="-0.00317 -0.011055 0.0555"/>
    <axis xyz="0 0 -1"/>
    <parent link="left_shoulder_roll"/>
    <child link="left_shoulder_pitch"/>
    <limit effort="1.4" lower="-2.5307" upper="2.5307" velocity="12.5"/>
  </joint>
  <joint name="left_shoulder_yaw" type="continuous">
    <origin rpy="1.57079632679489661923 0 0" xyz="0 -0.165 -0.1"/>
    <axis xyz="0 0 1"/>
    <parent link="left_shoulder_pitch"/>
    <child link="left_shoulder_yaw"/>
    <limit effort="1.4" lower="-1.7453" upper="1.7453" velocity="10"/>
  </joint>
  <joint name="left_elbow" type="continuous">
    <origin rpy="1.57079632679489661923 -0.3926991 0" xyz="0 -0.0385 0.185"/>
    <axis xyz="0 0 1"/>
    <parent link="left_shoulder_yaw"/>
    <child link="left_elbow"/>
    <limit effort="1.4" lower="-1.3526" upper="1.3526" velocity="12.5"/>
  </joint>

  <!-- right leg -->
  <joint name="right_hip_roll" type="revolute">
    <origin rpy="-1.5707963267948966192313216916398 -1.1955515003397312323585310878116 1.5707963267948966192313216916398" xyz="-0.001 -0.091 0"/>
    <axis xyz="0 0 1"/>
    <parent link="Rz"/>
    <child link="right_hip_roll"/>
    <dynamics damping="1.0" friction="1.0"/>
    <limit effort="1.4" lower="-1.0472" upper="1.0472" velocity="12.15"/>
  </joint>
  <joint name="right_hip_yaw" type="revolute">
    <origin rpy="0   -1.5707963267948966192313216916398         0" xyz="-0.0505 0 0.044"/>
    <axis xyz="0 0 1"/>
    <parent link="right_hip_roll"/>
    <child link="right_hip_yaw"/>
    <dynamics damping="1.0" friction="1.0"/>
    <limit effort="1.4" lower="-0.698132" upper="0.698132" velocity="12.15"/>
  </joint>
  <joint name="right_hip_pitch" type="revolute">
    <origin rpy="1.5707963267948966192313216916398 -0.78539855435120076165844693605322 3.1415926535897932384626433832795" xyz="0 -0.004 0.068"/>
    <axis xyz="0 0 -1"/>
    <parent link="right_hip_yaw"/>
    <child link="right_hip_pitch"/>
    <dynamics damping="1.0" friction="0.5"/>
    <limit effort="12.5" lower="-1.5707963267948966192313216916398" upper="1.0472" velocity="8.5"/>
  </joint>

  <!-- right knee close loop -->
  <joint name="right_achilles_rod" type="revolute">
    <origin rpy="-0.0087523017375784415566863927438135 0.070851391807226243857442682383407 1.4355417226017064269427692124736" xyz="0 0 0.046"/>
    <axis xyz="0 0 1"/>
    <parent link="right_hip_pitch"/>
    <child link="right_achilles_rod"/>
    <dynamics damping="0.01" friction="0.0"/>
    <limit effort="12.5" lower="-1.7453" upper="1.7453" velocity="8.5085"/>
  </joint>
  <joint name="right_ach2" type="revolute">
    <origin rpy="0 0 0" xyz="0 0 0"/>
    <axis xyz="0 1 0"/>
    <parent link="right_achilles_rod"/>
    <child link="right_ach2"/>
    <dynamics damping="0.01" friction="0.0"/>
    <limit effort="0.9" lower="-1.7453" upper="1.7453" velocity="11.5"/>
  </joint>

  <joint name="right_knee" type="revolute">
    <origin rpy="0         0    1.5707963267948966192313216916398" xyz="0.12 0 0.0045"/>
    <axis xyz="0 0 1"/>
    <parent link="right_hip_pitch"/>
    <child link="right_knee"/>
    <dynamics damping="1.0" friction="0.5"/>
    <limit effort="12.5" lower="-1.0193" upper="1.3963" velocity="8.5085"/>
  </joint>
  <joint name="right_shin" type="fixed">
    <origin rpy="0 0 0" xyz="0.060677 -0.047406 0"/>
    <axis xyz="0 0 1"/>
    <parent link="right_knee"/>
    <child link="right_shin"/>
    <dynamics damping="0.0" friction="0.0"/>
    <limit effort="0" lower="-0.35" upper="0.35" velocity="10"/>
  </joint>
  <joint name="right_tarsus" type="revolute">
    <origin rpy="0         0   -1.7976883650999471164766418951331" xyz="0.434759 -0.02 0"/>
    <axis xyz="0 0 1"/>
    <parent link="right_shin"/>
    <child link="right_tarsus"/>
    <dynamics damping="0.0" friction="0.0"/>
    <limit effort="0" lower="-1.2497" upper="0.8779" velocity="20"/>
  </joint>
  <joint name="right_heel_spring" type="fixed">
    <origin rpy="0.068907849662554282454962617521232 -0.037035299439698535217679875586327 -2.7207170387858861104746210912708" xyz="-0.01766 0.029456 0.00104"/>
    <axis xyz="0 0 1"/>
    <parent link="right_tarsus"/>
    <child link="right_heel_spring"/>
    <dynamics damping="0.0" friction="0.0"/>
    <limit effort="12" lower="-0.1047" upper="0.1047" velocity="11.5"/>
  </joint> 

  <!-- right toe close loop -->
  <joint name="right_toe_A" type="revolute">
    <origin rpy="3.1415926535897932384626433832795 0 1.5526446425200970402613620535703" xyz="0.059 0.034 -0.0276"/>
    <axis xyz="0 0 1"/>
    <parent link="right_tarsus"/>
    <child link="right_toe_A"/>
    <dynamics damping="1.0" friction="1.0"/>
    <limit effort="0.9" lower="-0.7851" upper="0.8077" velocity="11.5"/>
  </joint>
  <joint name="right_toe_A_rod" type="revolute">
    <origin rpy="0.03717647899635967423392912678537 0.0069418384185932916277672610760874 1.5437611240201540852012840332463" xyz="0.057 0 -0.008"/>
    <axis xyz="0 0 1"/>
    <parent link="right_toe_A"/>
    <child link="right_toe_A_rod"/>
    <dynamics damping="0.01" friction="0.0"/>
    <limit effort="0.9" lower="-1.7453" upper="1.7453" velocity="11.5"/>
  </joint>
  <joint name="right_A2" type="revolute">
    <origin rpy="0 0 0" xyz="0 0 0"/>
    <axis xyz="0 1 0"/>
    <parent link="right_toe_A_rod"/>
    <child link="right_A2"/>
    <dynamics damping="0.01" friction="0.0"/>
    <limit effort="0.9" lower="-1.7453" upper="1.7453" velocity="11.5"/>
  </joint>
  <joint name="right_toe_B" type="revolute">
    <origin rpy="0         0    1.5526446425200970402613620535703" xyz="0.111 0.034 0.0276"/>
    <axis xyz="0 0 1"/>
    <parent link="right_tarsus"/>
    <child link="right_toe_B"/>
    <dynamics damping="1.0" friction="1.0"/>
    <limit effort="0.9" lower="-0.7950" upper="0.8010" velocity="11.5"/>
  </joint>
  <joint name="right_toe_B_rod" type="revolute">
    <origin rpy="0.053844685552438438513878082858355 0.0022826832958013874852465363574083 -1.5418663490001245364169335516635" xyz="0.057 0 -0.008"/>
    <axis xyz="0 0 1"/>
    <parent link="right_toe_B"/>
    <child link="right_toe_B_rod"/>
    <dynamics damping="0.01" friction="0.0"/>
    <limit effort="0.9" lower="-1.7453" upper="1.7453" velocity="11.5"/>
  </joint>
  <joint name="right_B2" type="revolute">
    <origin rpy="0 0 0" xyz="0 0 0"/>
    <axis xyz="0 1 0"/>
    <parent link="right_toe_B_rod"/>
    <child link="right_B2"/>
    <dynamics damping="0.01" friction="0.0"/>
    <limit effort="0.9" lower="-1.7453" upper="1.7453" velocity="11.5"/>
  </joint>

  <joint name="right_toe_pitch" type="revolute">
    <origin rpy="0         0   -1.2522744638393012994725950193242" xyz="0.408 0.04 0"/>
    <axis xyz="0 0 1"/>
    <parent link="right_tarsus"/>
    <child link="right_toe_pitch"/>
    <dynamics damping="0.0" friction="0.0"/>
    <limit effort="0.9" lower="-0.5934" upper="0.7679" velocity="11.5"/>
  </joint>
  <joint name="right_toe_roll" type="revolute">
    <origin rpy="0    1.5707963267948966192313216916398         0" xyz="0 0 0"/>
    <axis xyz="0 0 1"/>
    <parent link="right_toe_pitch"/>
    <child link="right_toe_roll"/>
    <dynamics damping="0.0" friction="0.0"/>
    <limit effort="0.9" lower="-0.5760" upper="0.6458" velocity="11.5"/>
  </joint>

  <!-- right arm -->
  <joint name="right_shoulder_roll" type="continuous">
    <origin rpy="1.5707963267948966192313216916398 -1.3962633 -1.5707963267948966192313216916398" xyz="-0.001 -0.12 0.4"/>
    <axis xyz="0 0 1"/>
    <parent link="Rz"/>
    <child link="right_shoulder_roll"/>
    <dynamics damping="2.0" friction="2.0"/>
    <limit effort="1.4" lower="-1.309" upper="1.309" velocity="12.5"/>
  </joint>
  <joint name="right_shoulder_pitch" type="continuous">
    <origin rpy="-1.5707963267948966192313216916398 0.78539816339744830961566084581988 0.2792527" xyz="-0.00317 0.011055 0.0555"/>
    <axis xyz="0 0 -1"/>
    <parent link="right_shoulder_roll"/>
    <child link="right_shoulder_pitch"/>
    <dynamics damping="2.0" friction="2.0"/>
    <limit effort="1.4" lower="-2.5307" upper="2.5307" velocity="12.5"/>
  </joint>
  <joint name="right_shoulder_yaw" type="continuous">
    <origin rpy="-1.5707963267948966192313216916398         0         0" xyz="0 0.165 -0.1"/>
    <axis xyz="0 0 1"/>
    <parent link="right_shoulder_pitch"/>
    <child link="right_shoulder_yaw"/>
    <dynamics damping="2.0" friction="2.0"/>
    <limit effort="1.4" lower="-1.7453" upper="1.7453" velocity="10"/>
  </joint>
  <joint name="right_elbow" type="continuous">
    <origin rpy="-1.5707963267948966192313216916398 -0.3926991 0" xyz="0 0.0385 0.185"/>
    <axis xyz="0 0 1"/>
    <parent link="right_shoulder_yaw"/>
    <child link="right_elbow"/>
    <dynamics damping="2.0" friction="2.0"/>
    <limit effort="1.4" lower="-1.3526" upper="1.3526" velocity="12.5"/>
  </joint>
</robot>
